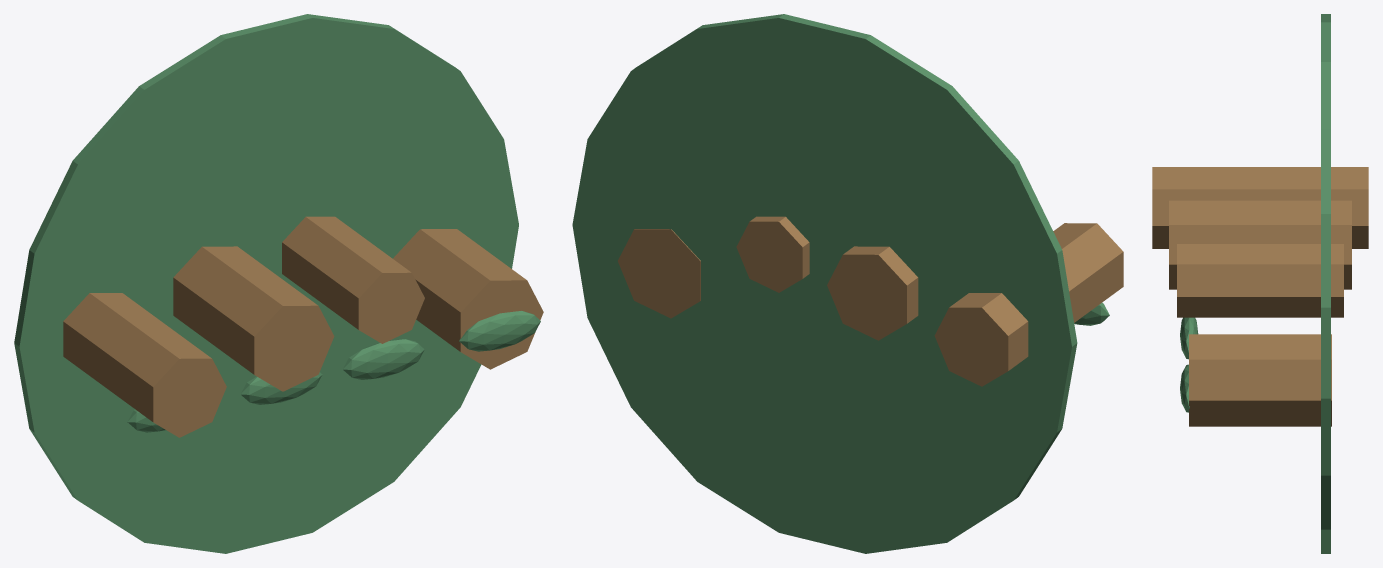
Rendered from 02_local_prop_cluster.glb.
3 views of the same model, side by side, from view 1: azimuth 30°, elevation 25°; view 2: azimuth 150°, elevation 25°; view 3: azimuth 270°, elevation 25° (orthographic). The views are drawn at different scales.
Parts seen in each view (by area): view 1: scatter_base, root_stump_1, root_stump_0, root_stump_2, root_stump_3, moss_2, moss_3, moss_1; view 2: scatter_base, root_stump_0, root_stump_1, root_stump_3, root_stump_2; view 3: root_stump_3, root_stump_2, root_stump_0, root_stump_1, scatter_base, moss_2, moss_3.
Boxes of the visible parts, left/top/right/bottom form: scatter_base: left=14, top=14, right=518, bottom=553; root_stump_1: left=173, top=246, right=334, bottom=391; root_stump_0: left=63, top=293, right=226, bottom=437; root_stump_2: left=282, top=216, right=424, bottom=343; root_stump_3: left=393, top=229, right=543, bottom=369; moss_2: left=343, top=339, right=424, bottom=379; moss_3: left=459, top=311, right=540, bottom=351; moss_1: left=240, top=372, right=322, bottom=404; scatter_base: left=572, top=14, right=1077, bottom=553; root_stump_0: left=934, top=223, right=1123, bottom=386; root_stump_1: left=827, top=246, right=918, bottom=340; root_stump_3: left=618, top=229, right=700, bottom=318; root_stump_2: left=736, top=216, right=809, bottom=292; root_stump_3: left=1189, top=334, right=1331, bottom=426; root_stump_2: left=1177, top=244, right=1343, bottom=317; root_stump_0: left=1152, top=167, right=1368, bottom=248; root_stump_1: left=1169, top=200, right=1351, bottom=289; scatter_base: left=1321, top=14, right=1330, bottom=553; moss_2: left=1180, top=317, right=1198, bottom=359; moss_3: left=1180, top=364, right=1189, bottom=412.
Size of the model in its own units: 1.9 by 1.87 by 0.7594.
